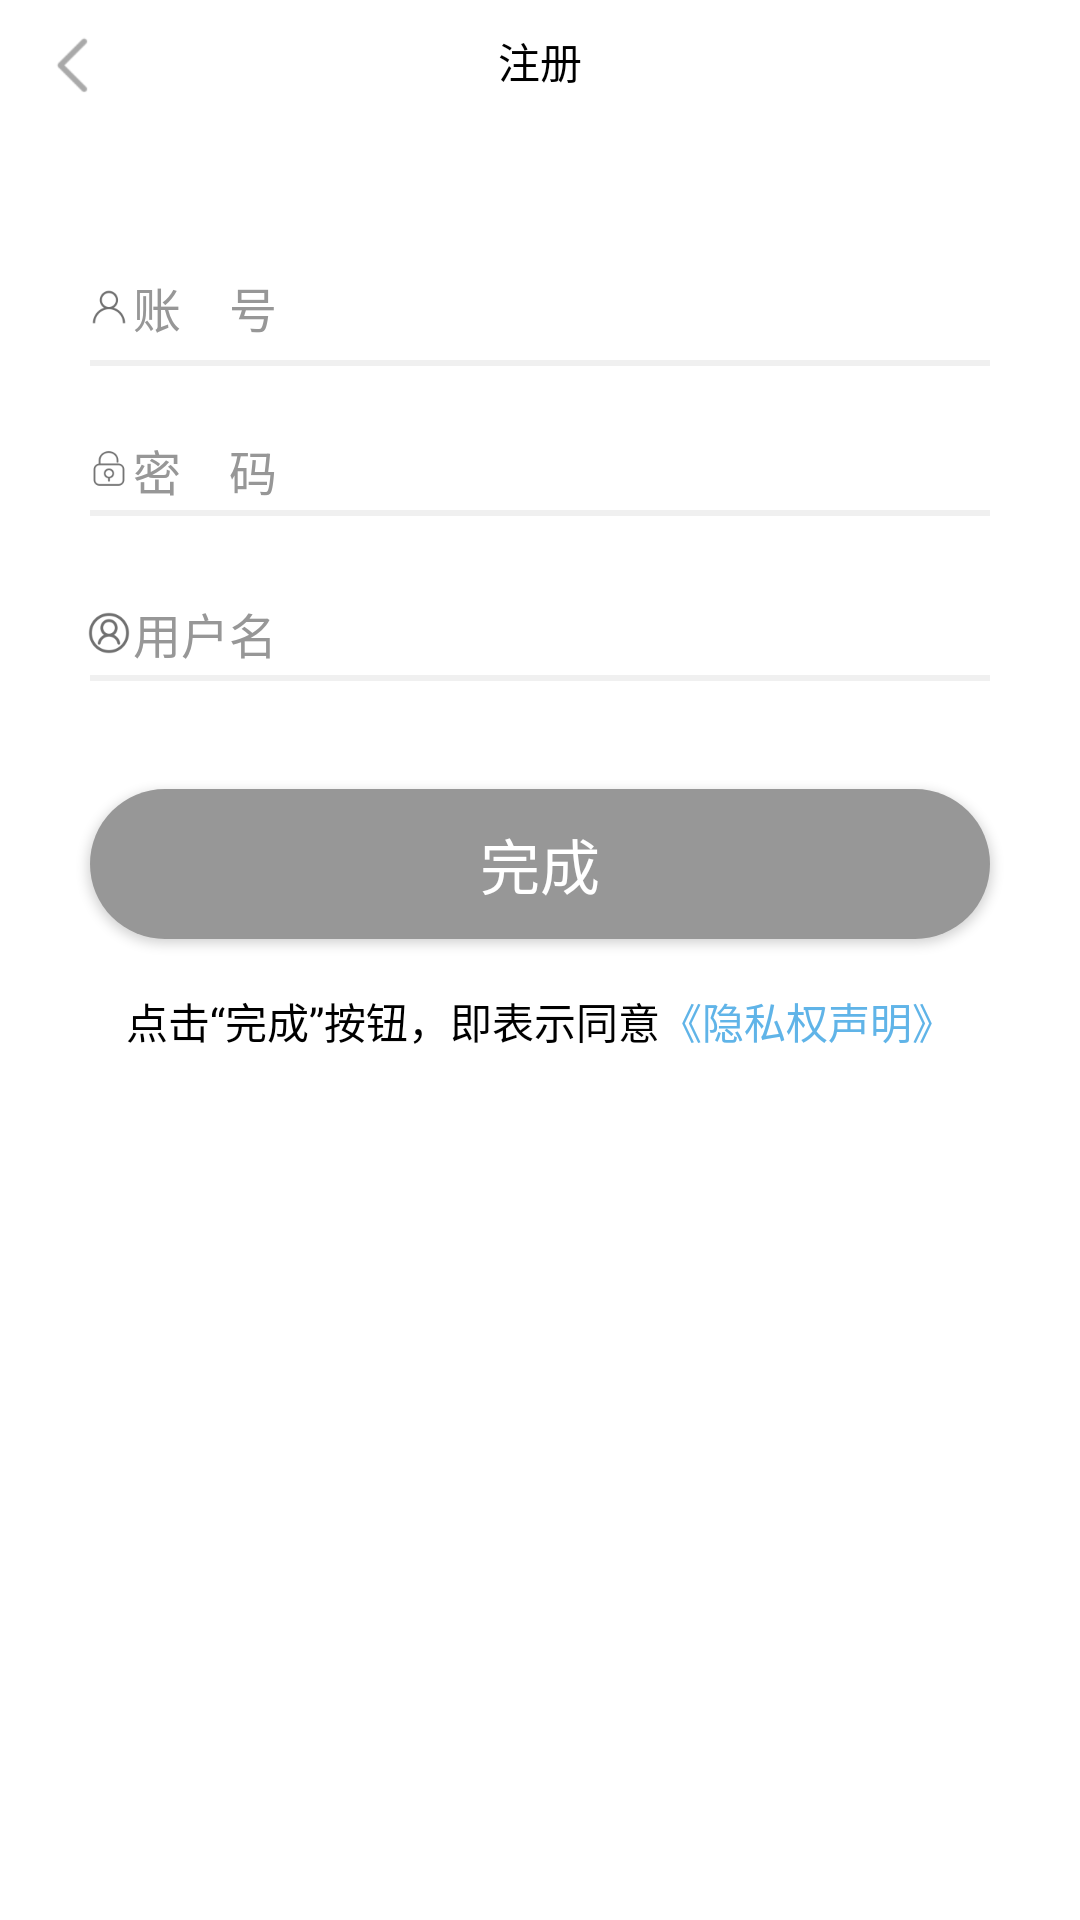

Named icons in this screenshot (1080×1920) and their bounding boxes, bbox(x1, y1, x2, y2):
fanhui: bbox(57, 38, 87, 92)
